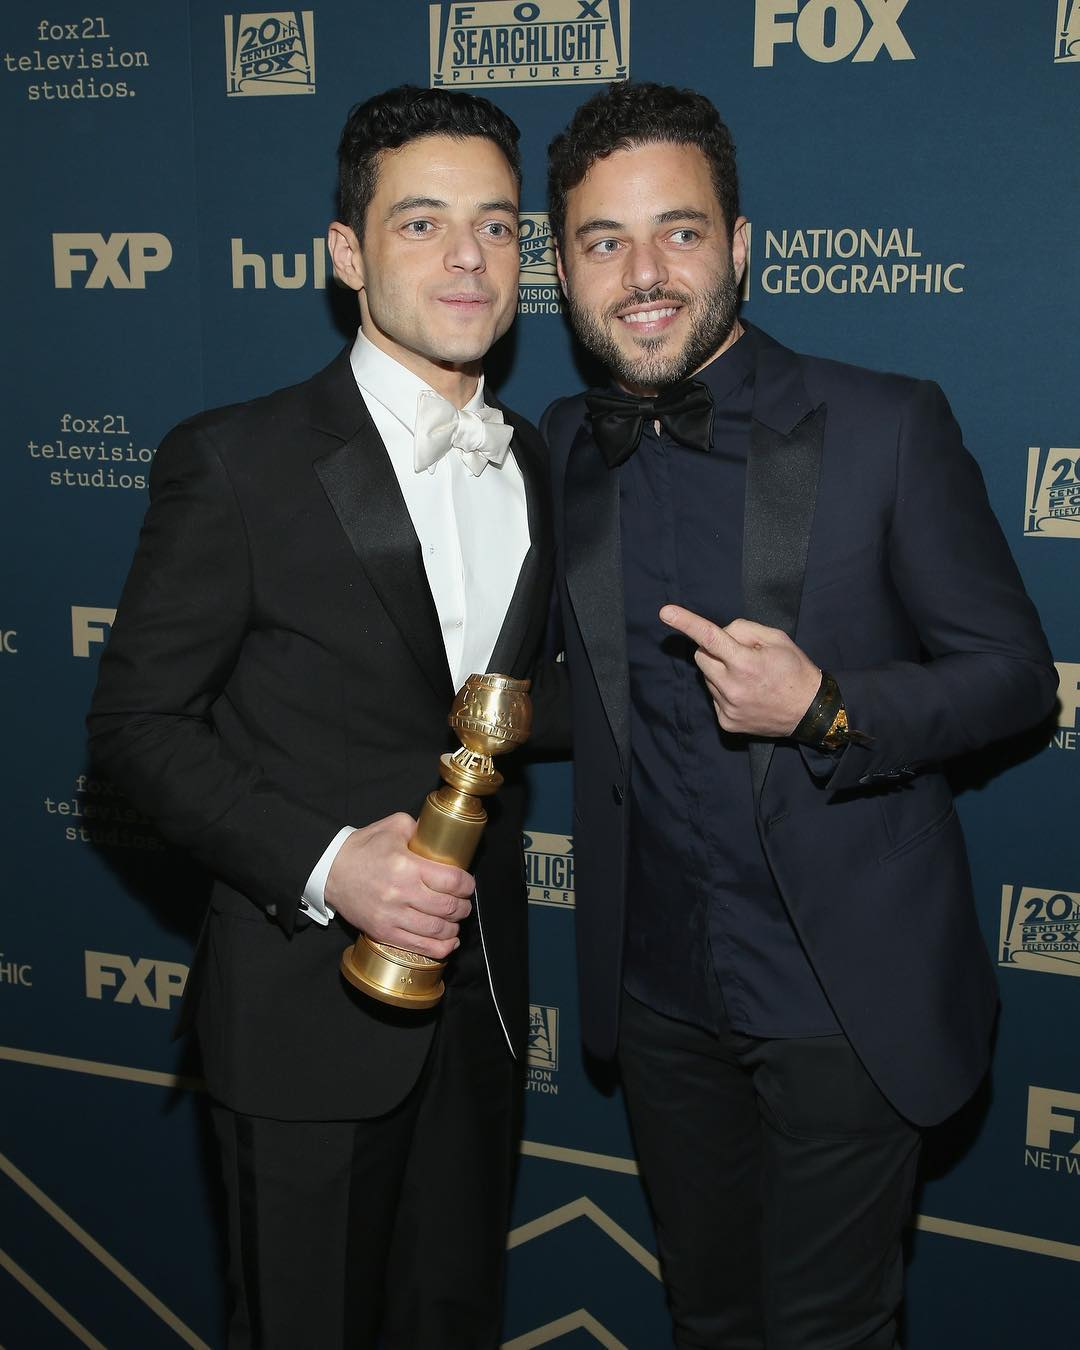hand: (330, 822, 458, 946)
